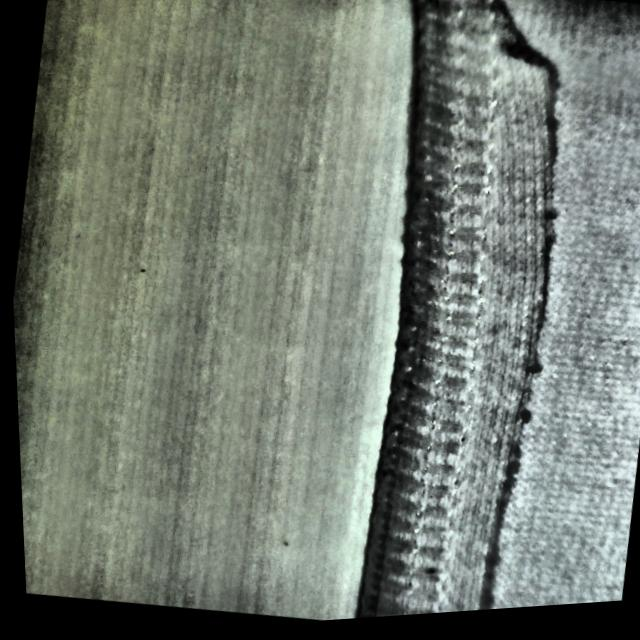seam: (325, 13, 620, 623)
